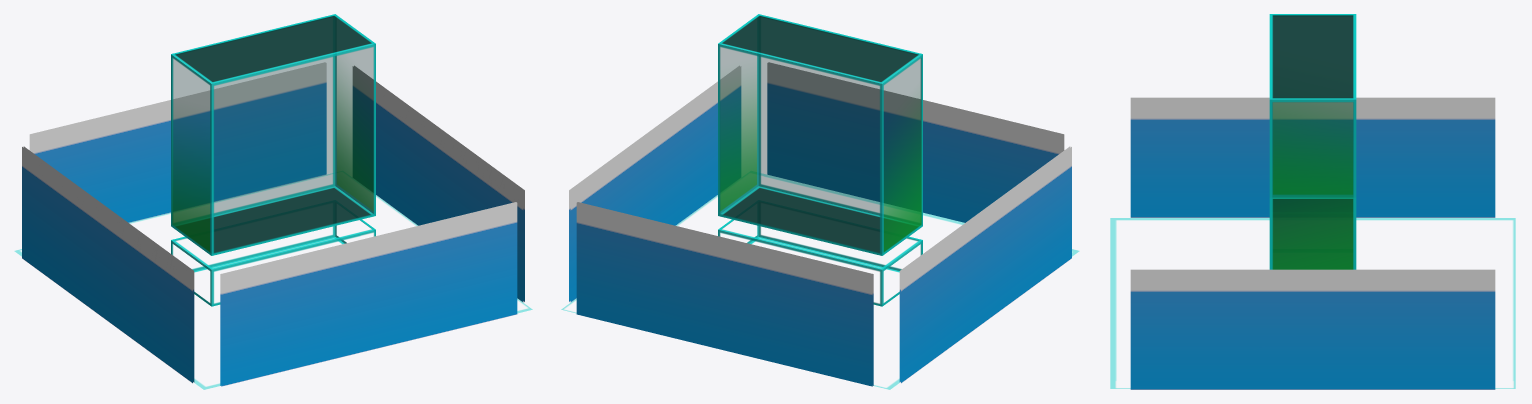
3 renders of one model, left to right at view 1: azimuth 30°, elevation 25°; view 2: azimuth 150°, elevation 25°; view 3: azimuth 270°, elevation 25°, orthographic. The views are drawn at different scales.
Parts seen in each view (by area): view 1: Mesh1 Group1 Model, Mesh8 Group8 __1 Model, Mesh4 Group4 __1 Model, Mesh10 Group10 __1 Model, Mesh3 Group3 __1 Model, Mesh2 Group2 Model, Mesh9 Group9 __1 Model, Mesh11 Group11 __1 Model, Mesh5 Group5 __1 Model, Mesh7 Group7 __1 Model, Mesh6 Group6 __1 Model; view 2: Mesh1 Group1 Model, Mesh6 Group6 __1 Model, Mesh9 Group9 __1 Model, Mesh10 Group10 __1 Model, Mesh3 Group3 __1 Model, Mesh2 Group2 Model, Mesh7 Group7 __1 Model, Mesh4 Group4 __1 Model, Mesh11 Group11 __1 Model, Mesh5 Group5 __1 Model, Mesh8 Group8 __1 Model; view 3: Mesh5 Group5 __1 Model, Mesh11 Group11 __1 Model, Mesh1 Group1 Model, Mesh7 Group7 __1 Model, Mesh3 Group3 __1 Model, Mesh10 Group10 __1 Model.
Boxes of the visible parts, x1,y1,x2,y2 form: Mesh1 Group1 Model: (171,14,375,255); Mesh8 Group8 __1 Model: (221,202,517,386); Mesh4 Group4 __1 Model: (30,63,326,222); Mesh10 Group10 __1 Model: (22,147,192,383); Mesh3 Group3 __1 Model: (352,66,523,302); Mesh2 Group2 Model: (171,219,375,306); Mesh9 Group9 __1 Model: (220,202,516,385); Mesh11 Group11 __1 Model: (23,146,194,382); Mesh5 Group5 __1 Model: (354,65,524,301); Mesh7 Group7 __1 Model: (14,173,532,389); Mesh6 Group6 __1 Model: (29,62,325,150); Mesh1 Group1 Model: (718,14,922,255); Mesh6 Group6 __1 Model: (576,202,872,386); Mesh9 Group9 __1 Model: (767,63,1063,222); Mesh10 Group10 __1 Model: (901,147,1071,383); Mesh3 Group3 __1 Model: (570,66,741,302); Mesh2 Group2 Model: (718,219,922,306); Mesh7 Group7 __1 Model: (561,173,1079,389); Mesh4 Group4 __1 Model: (577,202,873,385); Mesh11 Group11 __1 Model: (899,146,1070,382); Mesh5 Group5 __1 Model: (569,65,739,301); Mesh8 Group8 __1 Model: (768,62,1064,150); Mesh5 Group5 __1 Model: (1130,270,1495,389); Mesh11 Group11 __1 Model: (1130,98,1495,217); Mesh1 Group1 Model: (1269,14,1356,269); Mesh7 Group7 __1 Model: (1110,218,1515,388); Mesh3 Group3 __1 Model: (1130,269,1495,270); Mesh10 Group10 __1 Model: (1130,97,1495,98).
Bounding box in the file's own units: 202 × 134 × 202.
Materials: 8 (8 with a texture image).
